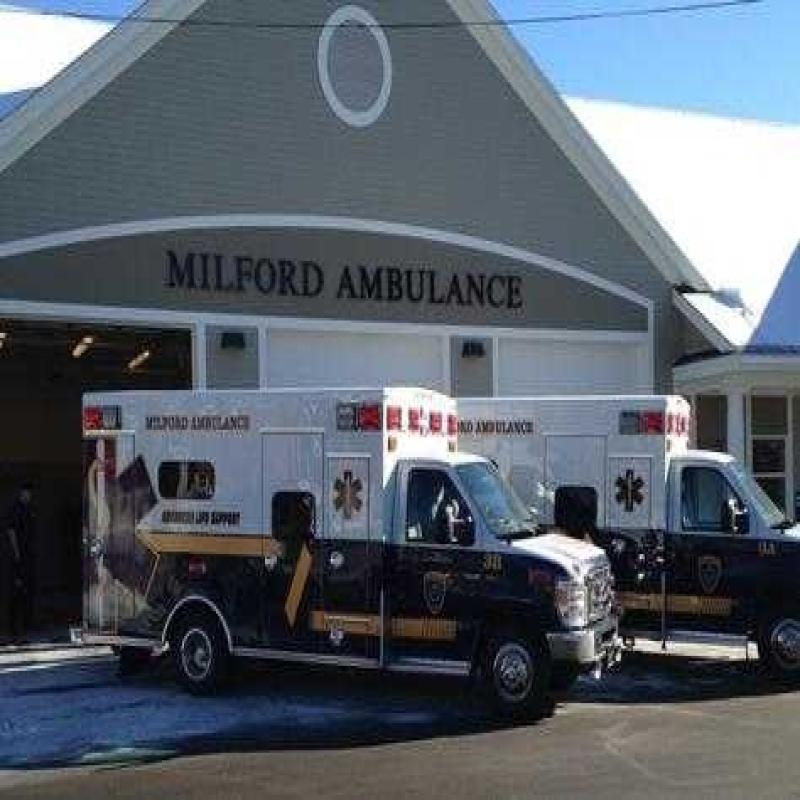AmbulanceSiren: (352, 398, 466, 439)
